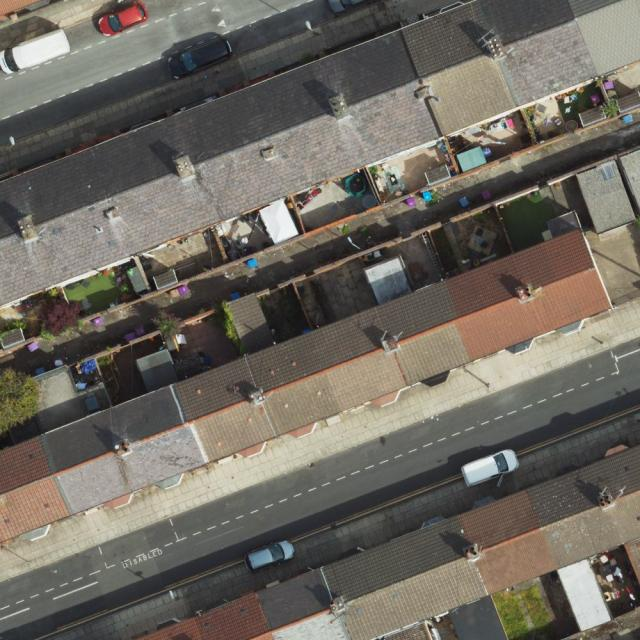roof: (0, 225, 614, 546), (0, 0, 640, 303), (131, 441, 640, 640), (578, 148, 640, 234)
